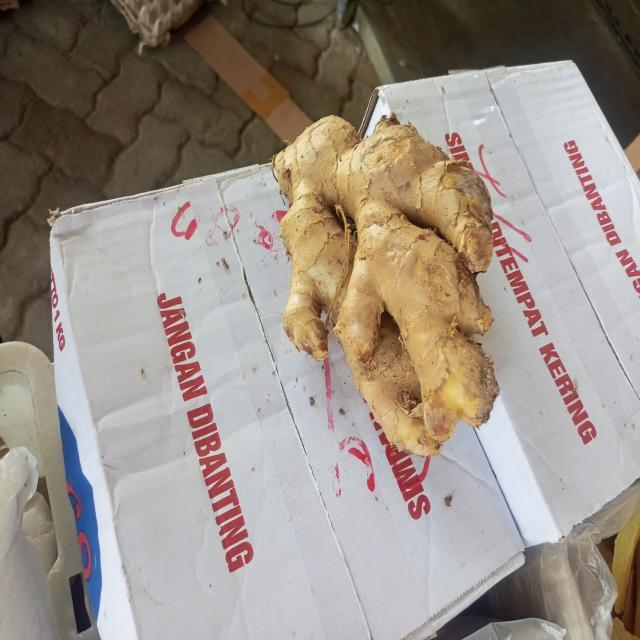ginger: (272, 116, 498, 446)
